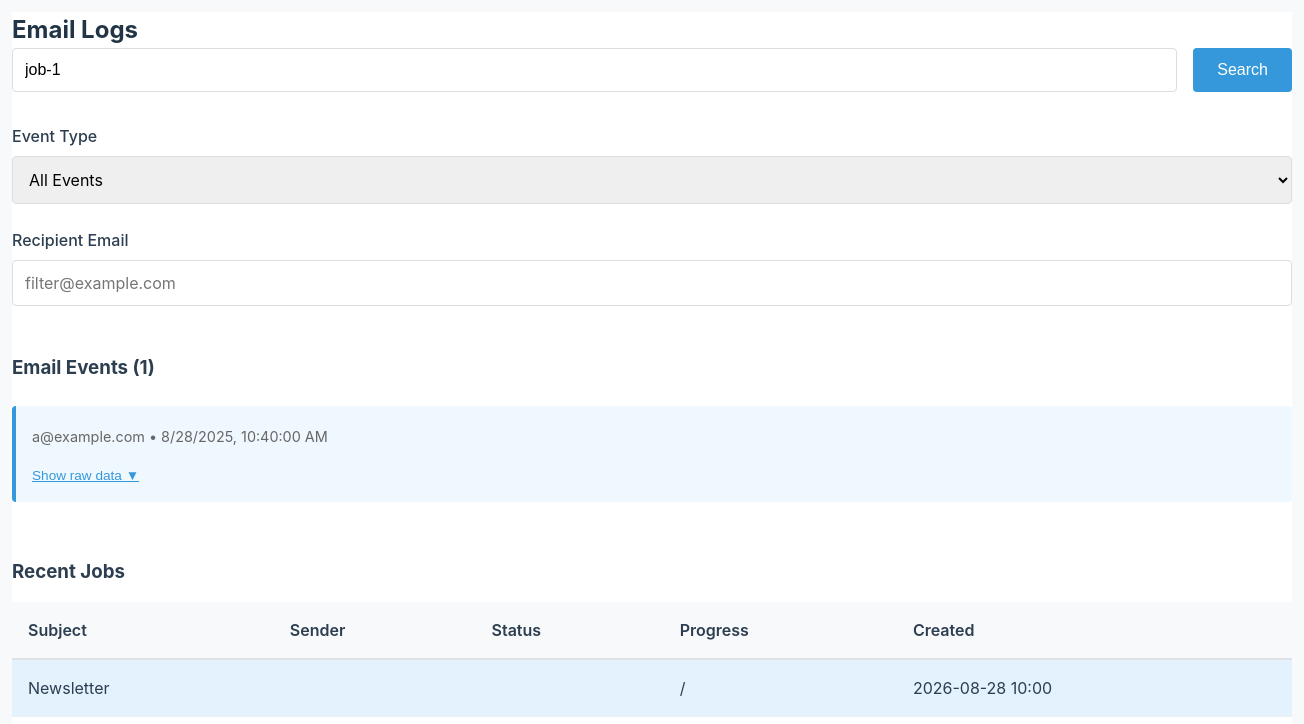
Test: EmailLogs › hides the bounce sub-filter unless Bounce is selected
Expected: the field labelled "bounce category" is not shown
Select "Bounce" in the dropdown labelled "Event Type" at [652, 180], box x1=12 y1=156 x2=1292 y2=204
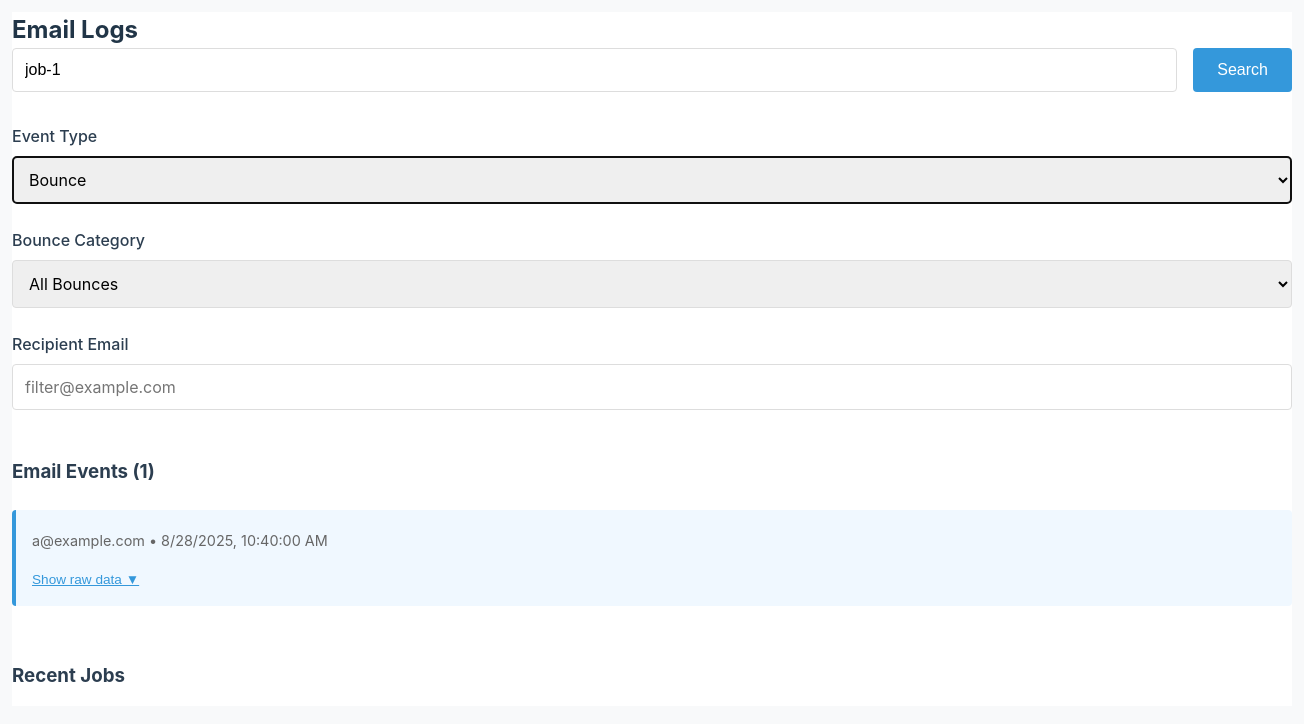
Result: the dropdown labelled "Bounce Category" is shown at x1=12 y1=260 x2=1292 y2=308
